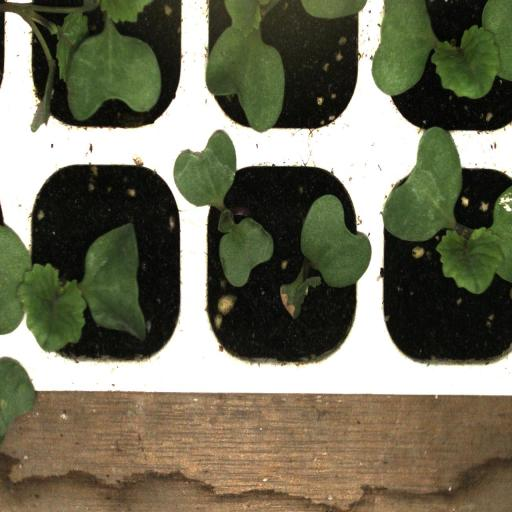Folha: (173, 131, 274, 287), (205, 0, 287, 133), (284, 194, 372, 306), (0, 359, 35, 438)
Germinacao: (189, 140, 372, 389), (17, 147, 192, 389), (373, 141, 512, 387), (19, 0, 189, 140), (372, 1, 512, 149)
